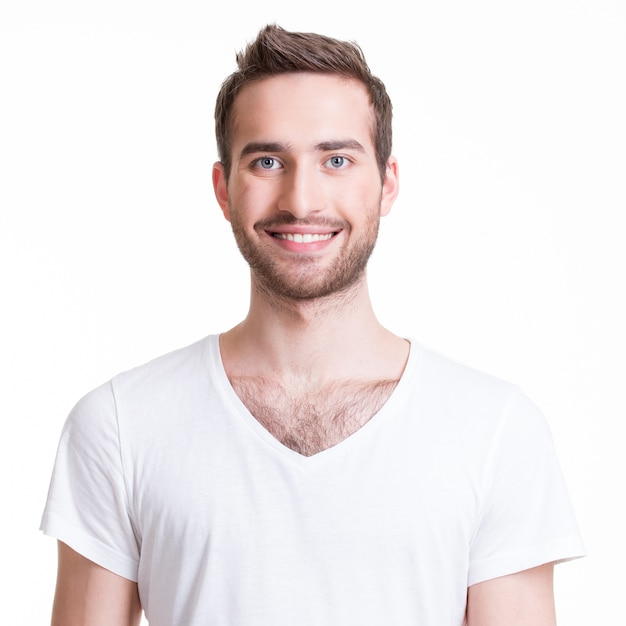young: (192, 22, 403, 304)
